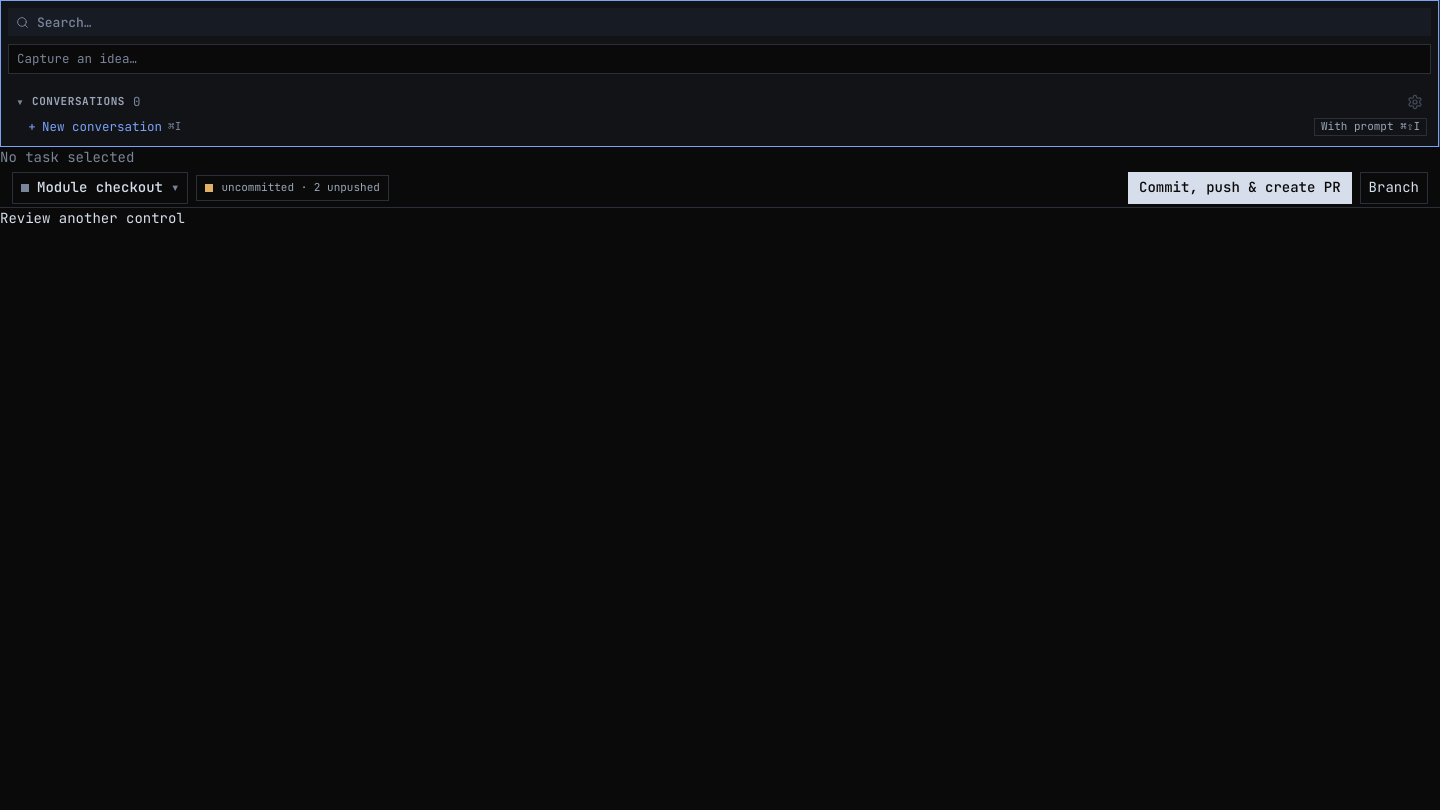
Scenario: overhaul acceptance - stacked Changes actions › confirms and settles the task stack in order
Click the button with aria-label "Commit, push & create PR on feature/changes" at [1240, 188], box [1128, 172, 1352, 204]
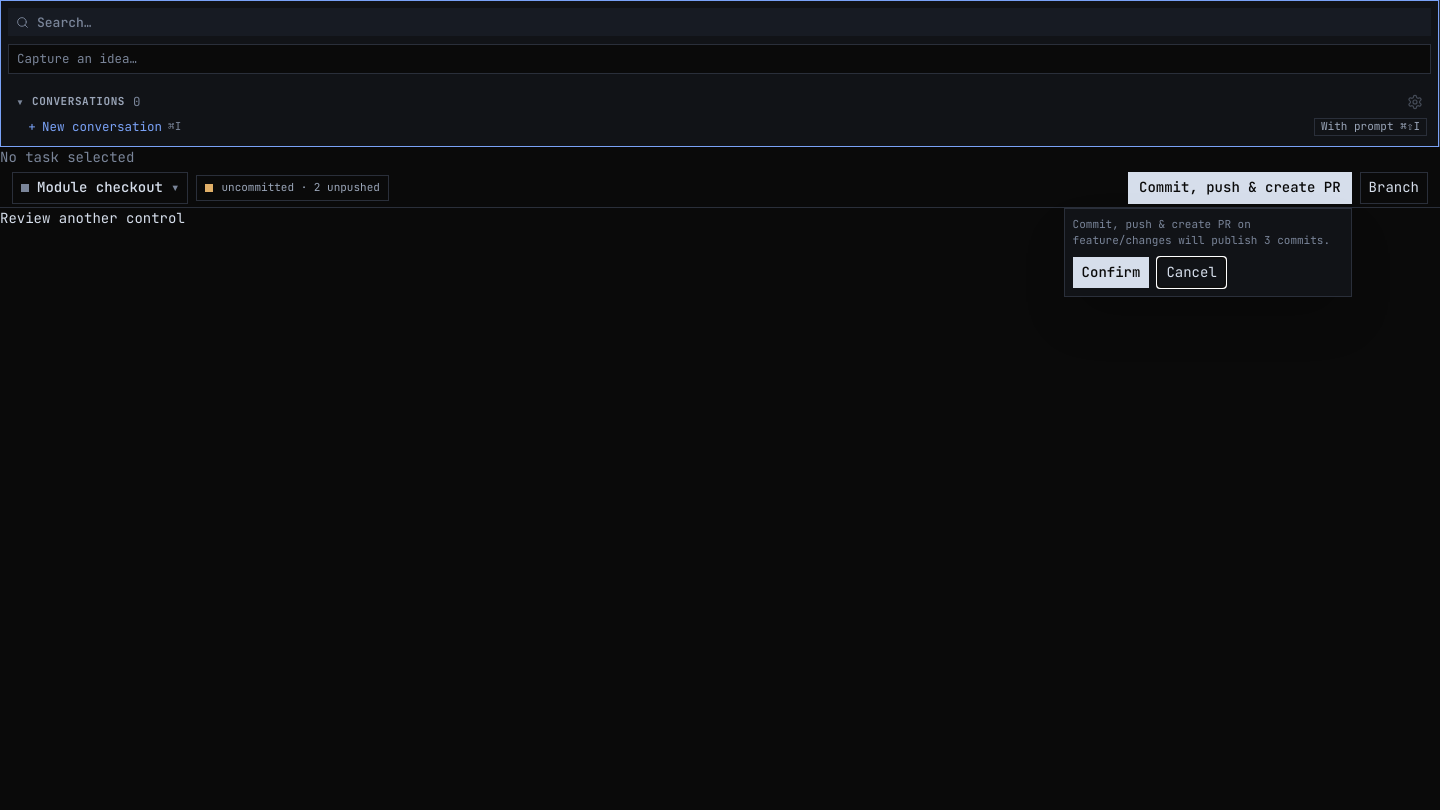
Expected: the dialog shows "feature/changes", [1073, 233, 1172, 247]
Click the button "Confirm" at [1111, 273], box [1073, 257, 1149, 288]
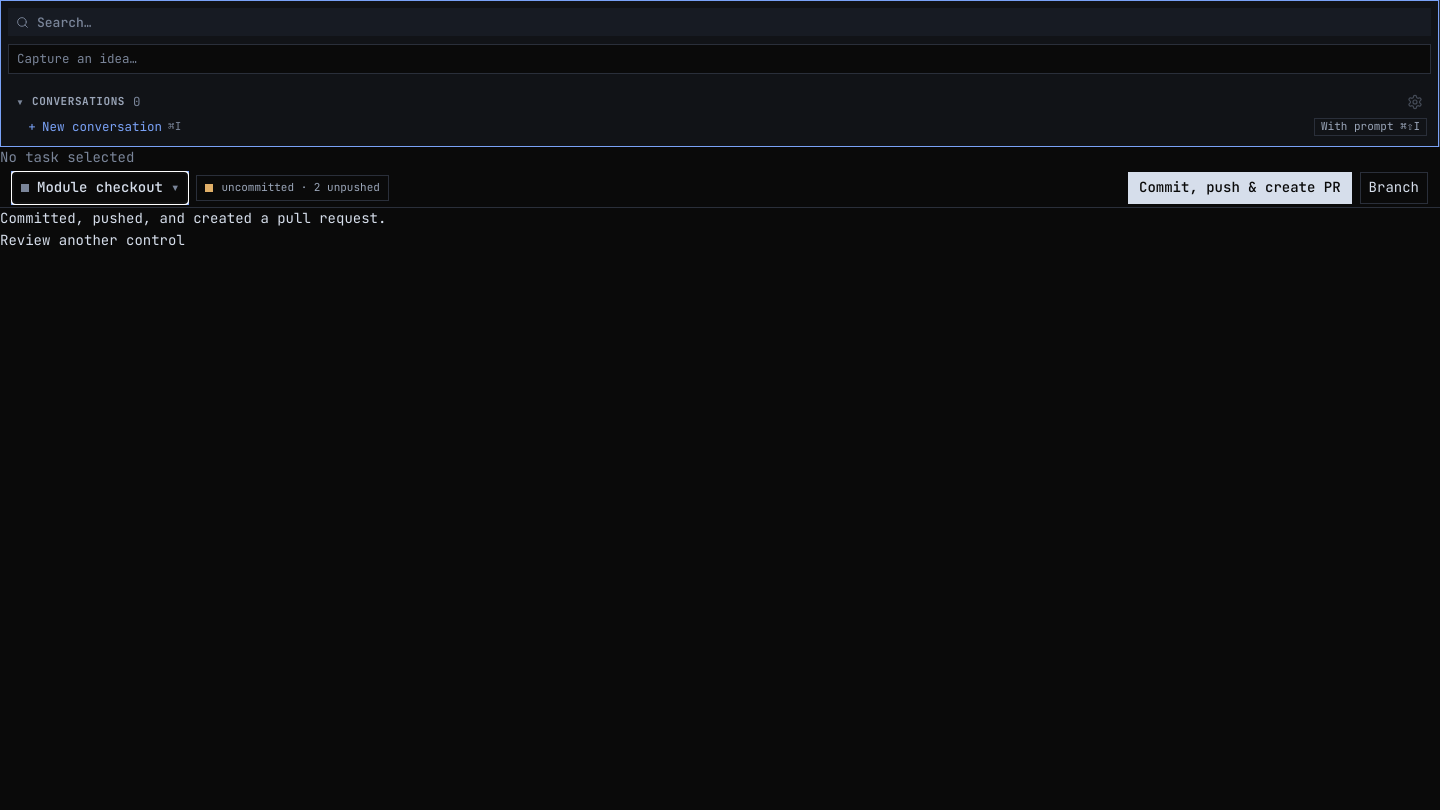
Expected: the message shows "created a pull request", [0, 209, 386, 227]
